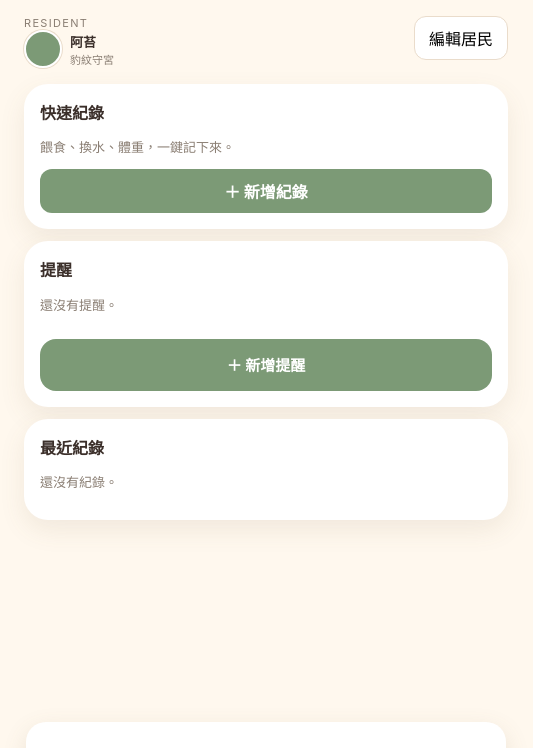
Scenario: AnimalDetailPage › shows the conflict banner and loads the latest values
Click the button "編輯居民".
click(461, 38)  # box [414,16,508,60]
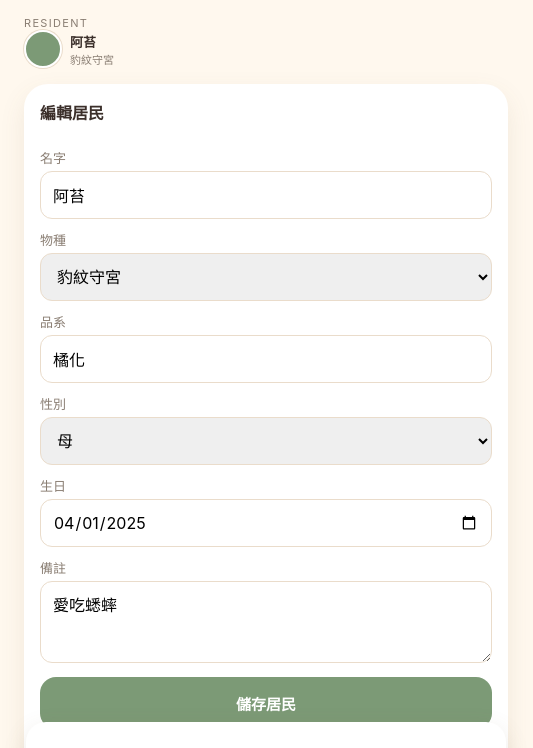
Replace the text in the field labelled "名字" with "我改的名字" at point(266, 195), box [40,171,492,219]
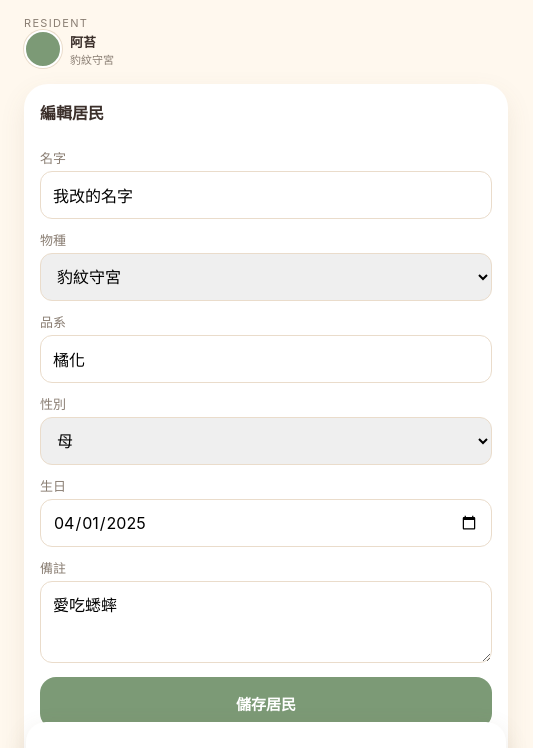
Click the button "儲存居民".
click(266, 703)  # box [40,677,492,729]
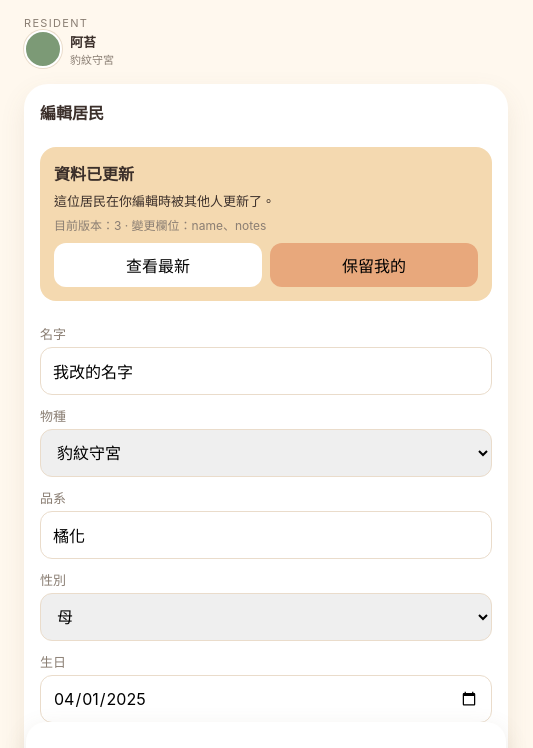
Expected: the text "資料已更新" is shown, [54,164,134,184]
Expected: the text "目前版本：3 · 變更欄位：name、notes" is shown, [54,218,266,233]
Click the button "查看最新".
click(158, 265)  # box [54,243,262,287]
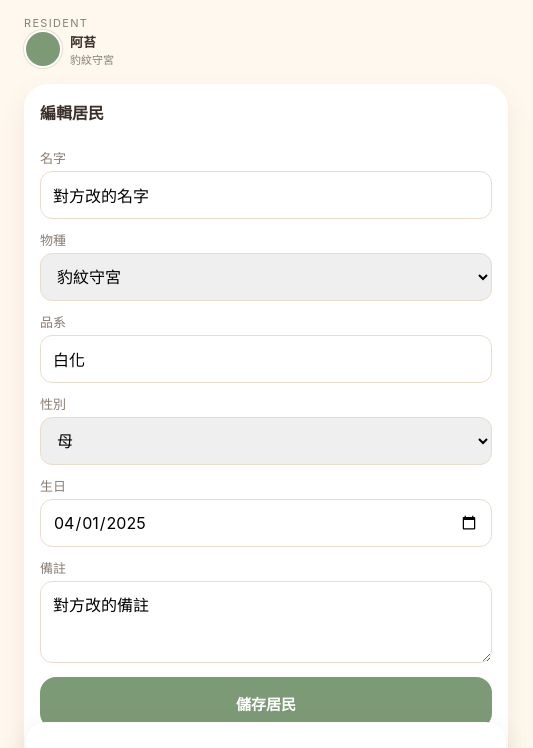
Expected: the field labelled "名字" holds "對方改的名字", [40,171,492,219]
Expected: the field labelled "品系" holds "白化", [40,335,492,383]
Expected: the text box labelled "備註" holds "對方改的備註", [40,581,492,663]
